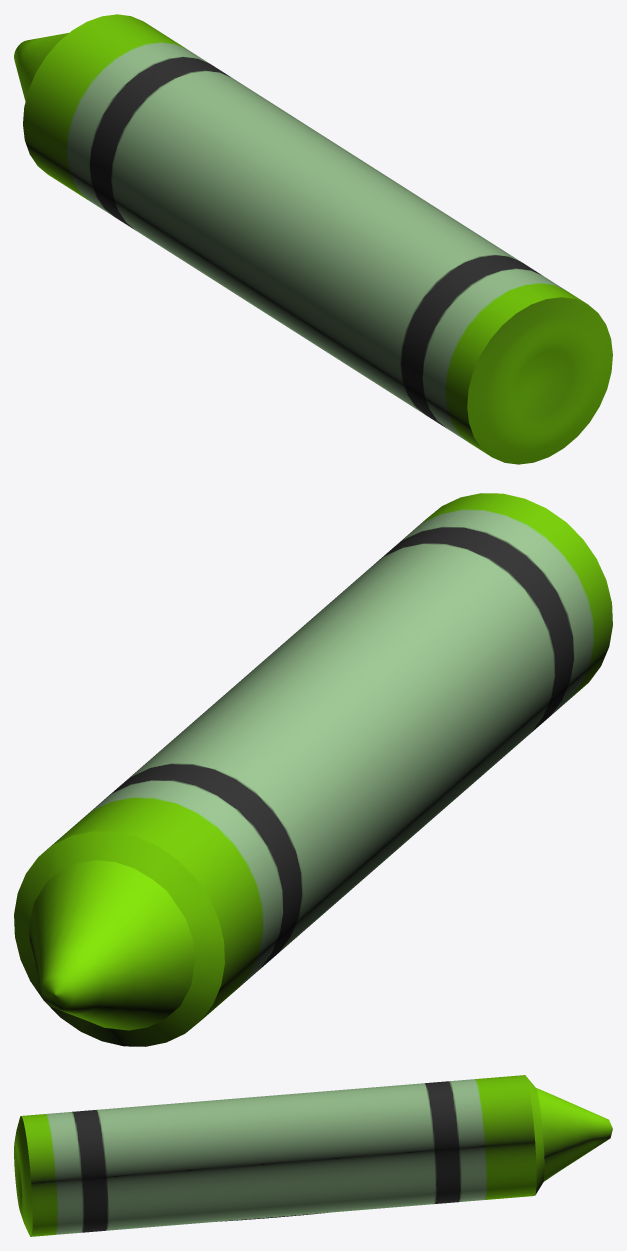
The model's file is green.obj.
3 renders of one model, top to bottom at view 1: azimuth 30°, elevation 25°; view 2: azimuth 150°, elevation 25°; view 3: azimuth 270°, elevation 25°, orthographic. The views are drawn at different scales.
Parts seen in each view (by area): view 1: Cylinder001; view 2: Cylinder001; view 3: Cylinder001.
Part boxes in pixels (x1,y1,x2,y2): Cylinder001: (14,14,612,464); Cylinder001: (14,493,612,1046); Cylinder001: (14,1075,612,1236).
Bounding box in the file's own units: 18.07 × 14.51 × 61.61.
Materials: 1 (1 with a texture image).
